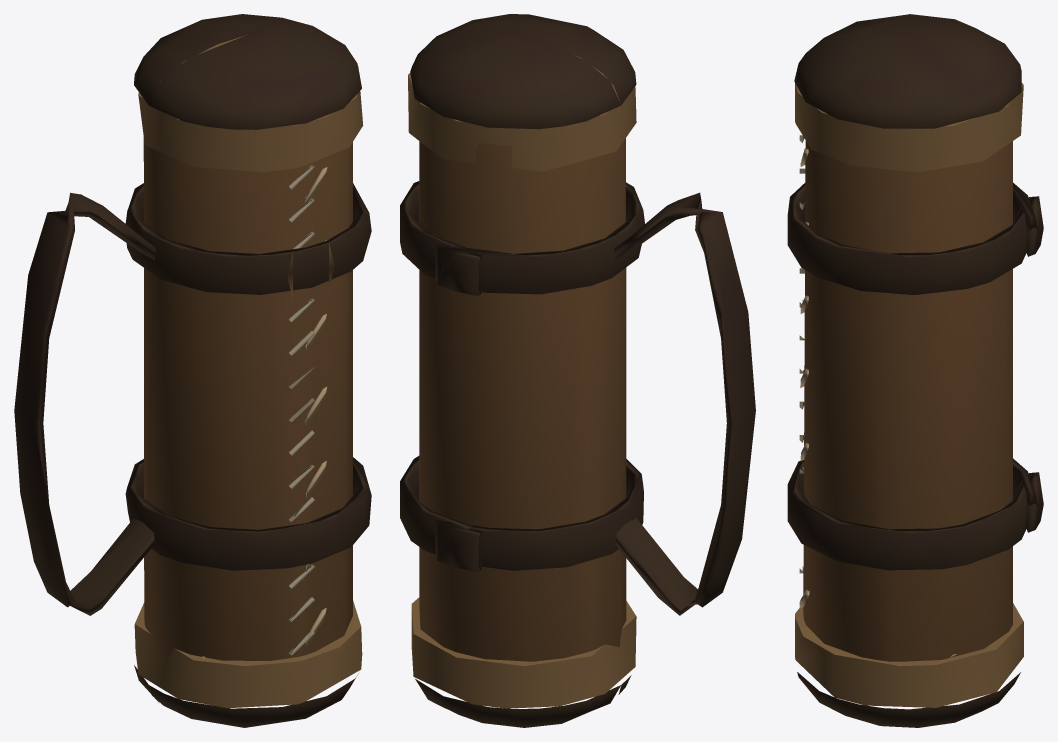
3 renders of one model, left to right at view 1: azimuth 30°, elevation 25°; view 2: azimuth 150°, elevation 25°; view 3: azimuth 270°, elevation 25°, orthographic.
Visible parts, largest first — view 1: tanned leather, aged alloy edge; view 2: tanned leather, aged alloy edge; view 3: tanned leather, aged alloy edge.
Part boxes in pixels (x1,y1,x2,y2): tanned leather: [14, 14, 371, 727]; aged alloy edge: [134, 35, 363, 708]; tanned leather: [400, 14, 755, 727]; aged alloy edge: [408, 55, 636, 708]; tanned leather: [787, 14, 1043, 727]; aged alloy edge: [795, 77, 1023, 707].
Bounding box in the file's own units: 0.1139 × 0.2192 × 0.0767.
